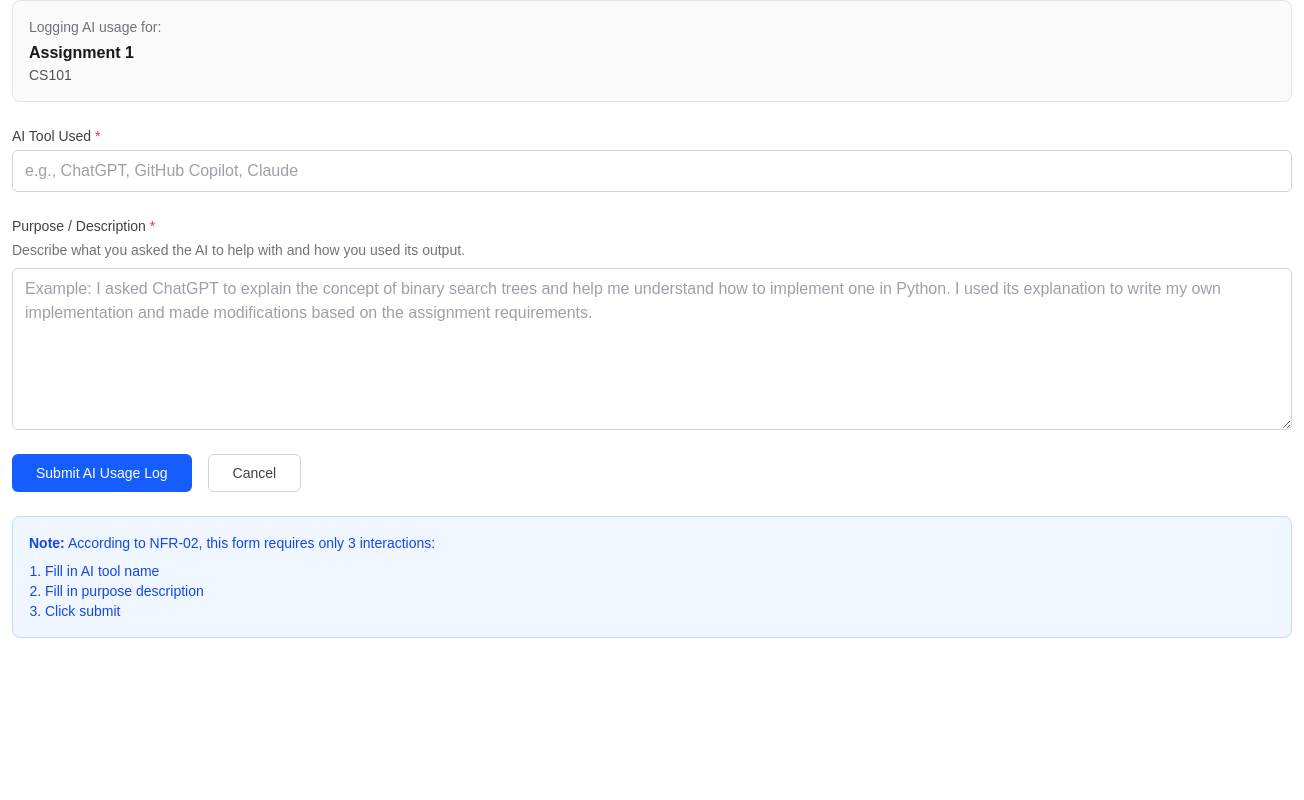
Test: AILogForm Component › shows validation errors when fields are empty on submit
Click the button "Submit AI Usage Log". click: (102, 473)
box: [12, 454, 192, 492]
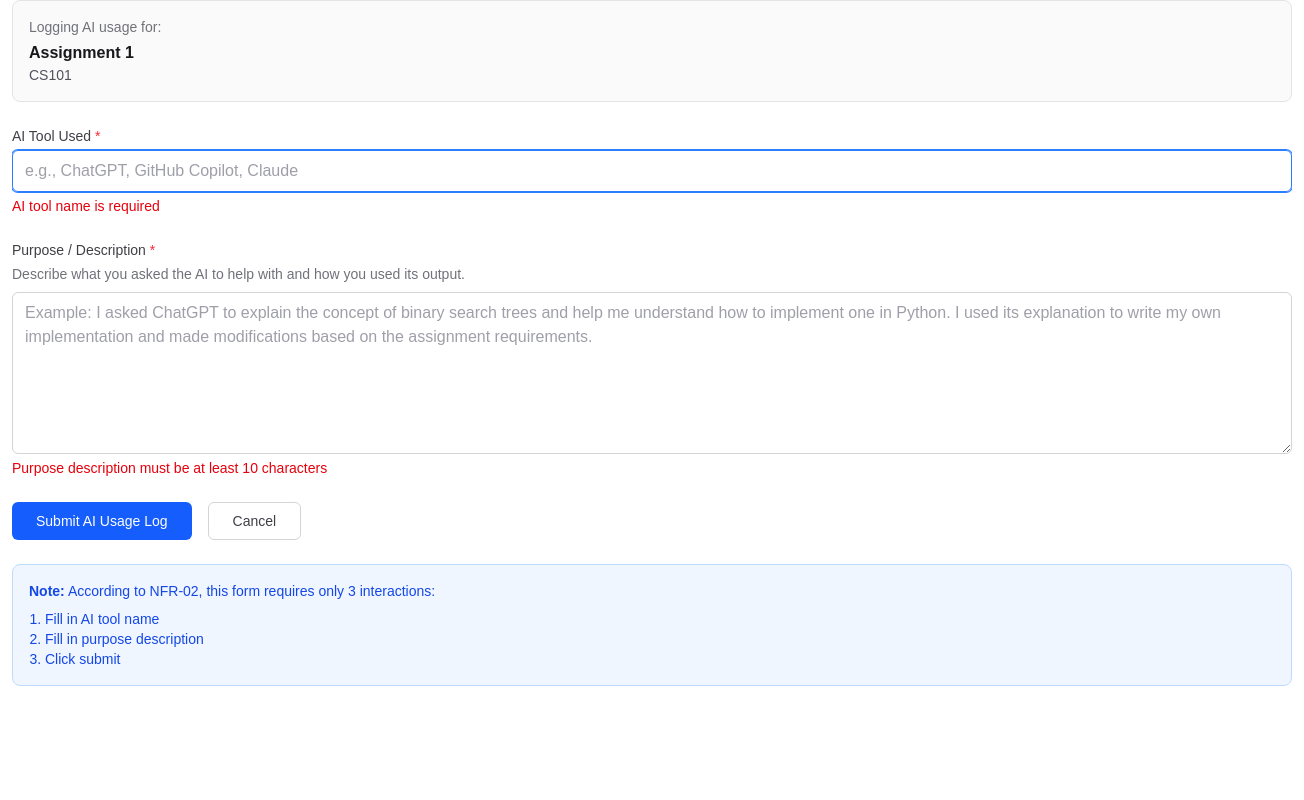
Expected: the text "AI tool name is required" is shown, [12, 198, 160, 214]
Expected: the text "Purpose description must be at least 10 characters" is shown, [12, 460, 327, 476]
